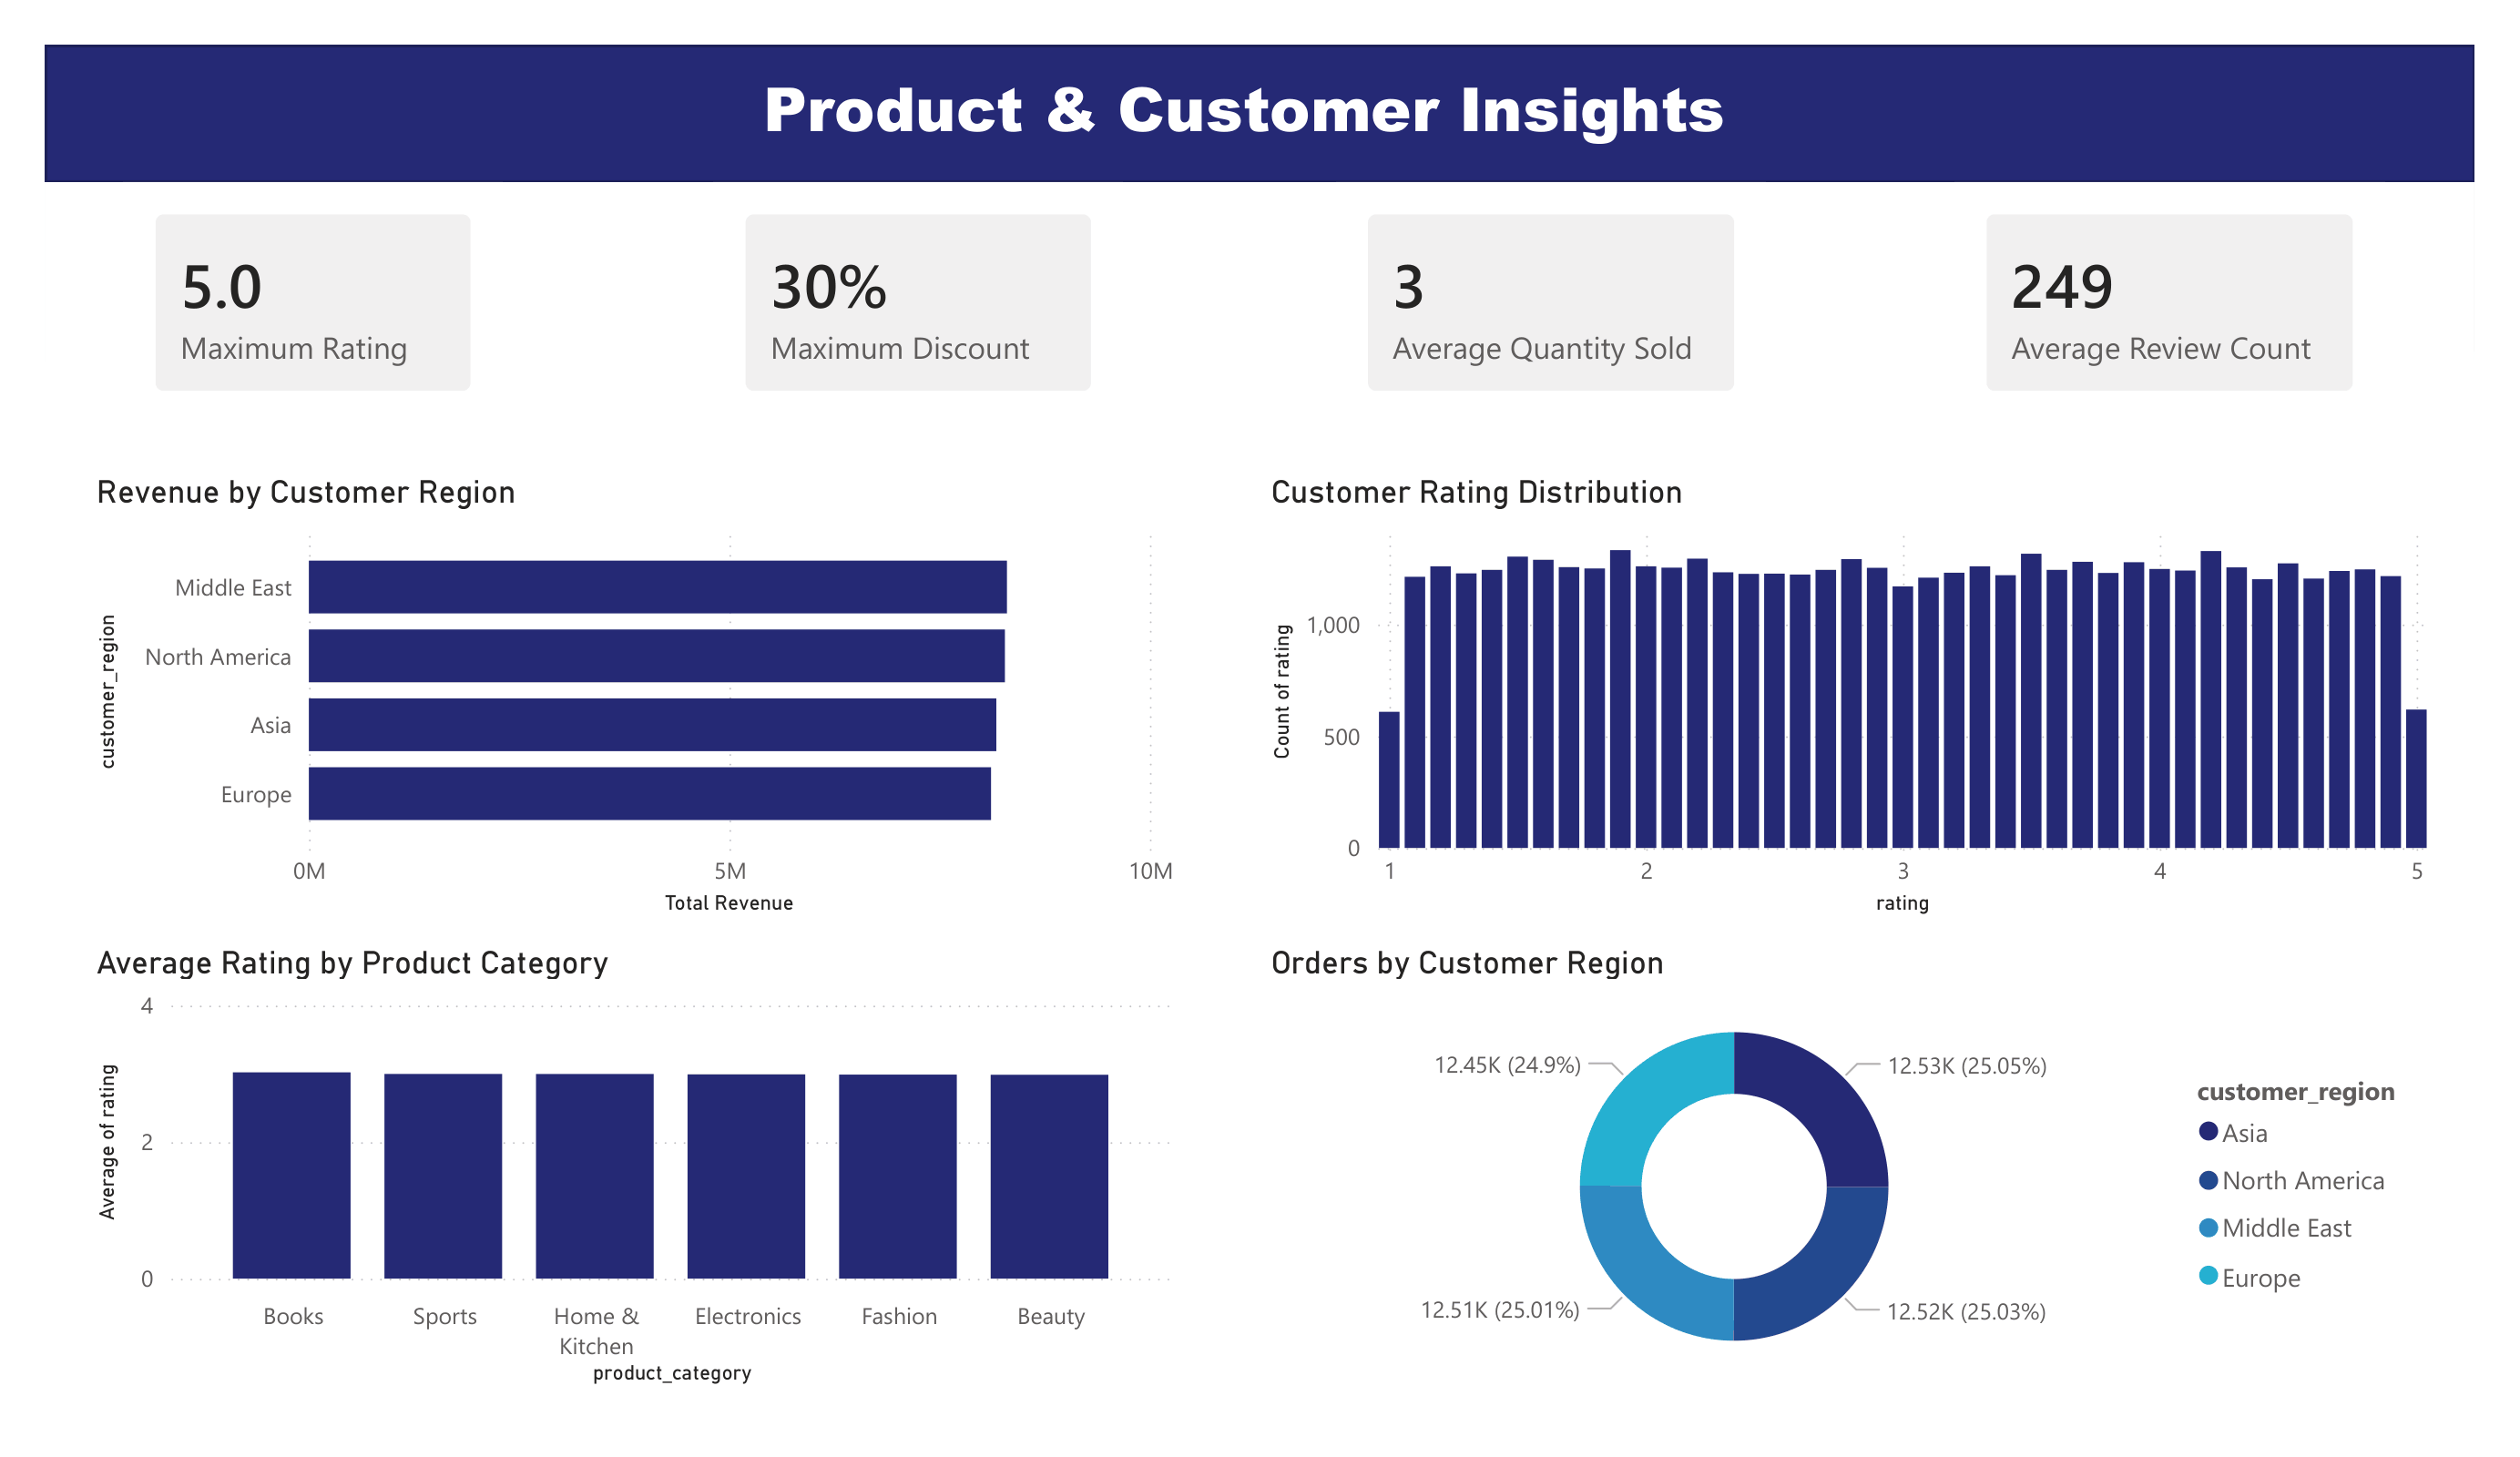

The dashboard page shown, as its layout file describes it:
{"tool":"powerbi","page":{"name":"dashboard_page2","canvas":[1280,720],"ordinal":1},"visuals":[{"type":"shape","box":[0,0,1280,71.9],"z":0},{"type":"textbox","box":[372.7,4.8,534.5,67.1],"z":1000},{"type":"cardVisual","fields":{"Data":["sales.Maximum Rating"]},"box":[40.7,71.9,200.1,127],"z":2000},{"type":"cardVisual","fields":{"Data":["sales.Maximum Discount"]},"box":[352.4,71.9,215.7,127],"z":3000},{"type":"cardVisual","fields":{"Data":["sales.Average Quantity Sold"]},"box":[679.6,71.9,227.7,127],"z":4000},{"type":"cardVisual","fields":{"Data":["sales.Average Review Count"]},"box":[1005.5,71.9,227.7,127],"z":5000},{"type":"clusteredBarChart","title":"Revenue by Customer Region","fields":{"Category":["sales.customer_region"],"Y":["sales.Total Revenue"]},"box":[21.6,225.1,577.1,238.1],"z":6000},{"type":"clusteredColumnChart","title":"Customer Rating Distribution","fields":{"Category":["sales.rating"],"Y":["CountNonNull(sales.rating)"]},"box":[640.6,225.1,618.9,238.1],"z":7000},{"type":"clusteredColumnChart","title":"Average Rating by Product Category","fields":{"Category":["sales.product_category"],"Y":["Avg(sales.rating)"]},"box":[21.6,473.2,577.1,238.1],"z":8000},{"type":"donutChart","title":"Orders by Customer Region","fields":{"Category":["sales.customer_region"],"Y":["CountNonNull(sales.order_id)"]},"box":[641,473,619,238],"z":9000}]}

Visuals, with their boxes on the page's 1280x720 design canvas (x1, y1, x2, y2). These are canvas units, not pixel positions in the 2520x1457 screenshot, which may show the page scaled, cropped or inside an application window:
shape: BBox(0, 0, 1280, 72)
textbox: BBox(373, 5, 907, 72)
cardVisual - sales.Maximum Rating: BBox(41, 72, 241, 199)
cardVisual - sales.Maximum Discount: BBox(352, 72, 568, 199)
cardVisual - sales.Average Quantity Sold: BBox(680, 72, 907, 199)
cardVisual - sales.Average Review Count: BBox(1006, 72, 1233, 199)
"Revenue by Customer Region" clusteredBarChart: BBox(22, 225, 599, 463)
"Customer Rating Distribution" clusteredColumnChart: BBox(641, 225, 1260, 463)
"Average Rating by Product Category" clusteredColumnChart: BBox(22, 473, 599, 711)
"Orders by Customer Region" donutChart: BBox(641, 473, 1260, 711)
